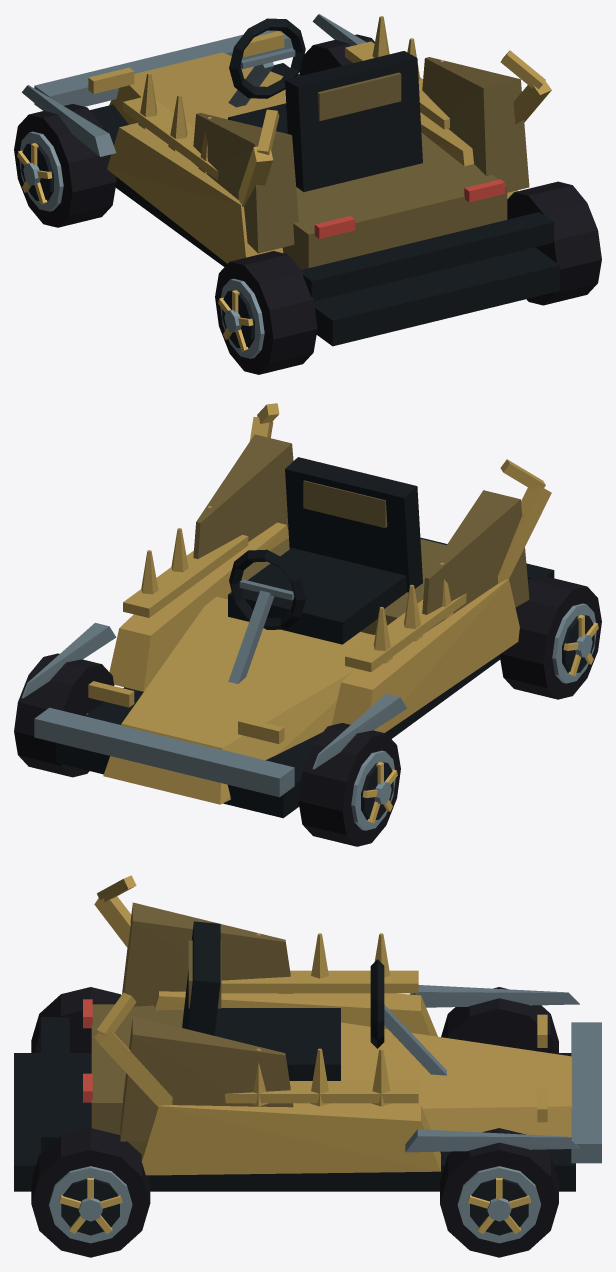
File: kart.glb
The picture shows the model from 3 angles, top to bottom: view 1: azimuth 30°, elevation 25°; view 2: azimuth 150°, elevation 25°; view 3: azimuth 270°, elevation 25°; orthographic projection.
Visible parts, largest first — view 1: chassis, wheel-rear-left, wheel-front-left, wheel-rear-right, wheel-front-right; view 2: chassis, wheel-front-left, wheel-rear-left, wheel-front-right; view 3: chassis, wheel-rear-right, wheel-front-right, wheel-front-left, wheel-rear-left.
Boxes of the visible parts, <box> form: chassis: <box>22,14,559,346</box>; wheel-rear-left: <box>215,251,317,374</box>; wheel-front-left: <box>14,104,116,227</box>; wheel-rear-right: <box>507,181,601,305</box>; wheel-front-right: <box>299,34,374,75</box>; chassis: <box>22,403,554,818</box>; wheel-front-left: <box>298,723,400,846</box>; wheel-rear-left: <box>499,575,601,699</box>; wheel-front-right: <box>14,653,114,777</box>; chassis: <box>14,875,601,1191</box>; wheel-rear-right: <box>31,1128,150,1257</box>; wheel-front-right: <box>440,1128,558,1257</box>; wheel-front-left: <box>441,987,558,1052</box>; wheel-rear-left: <box>31,987,121,1052</box>.
Bounding box in the file's own units: 2.18 × 1.38 × 3.07.
